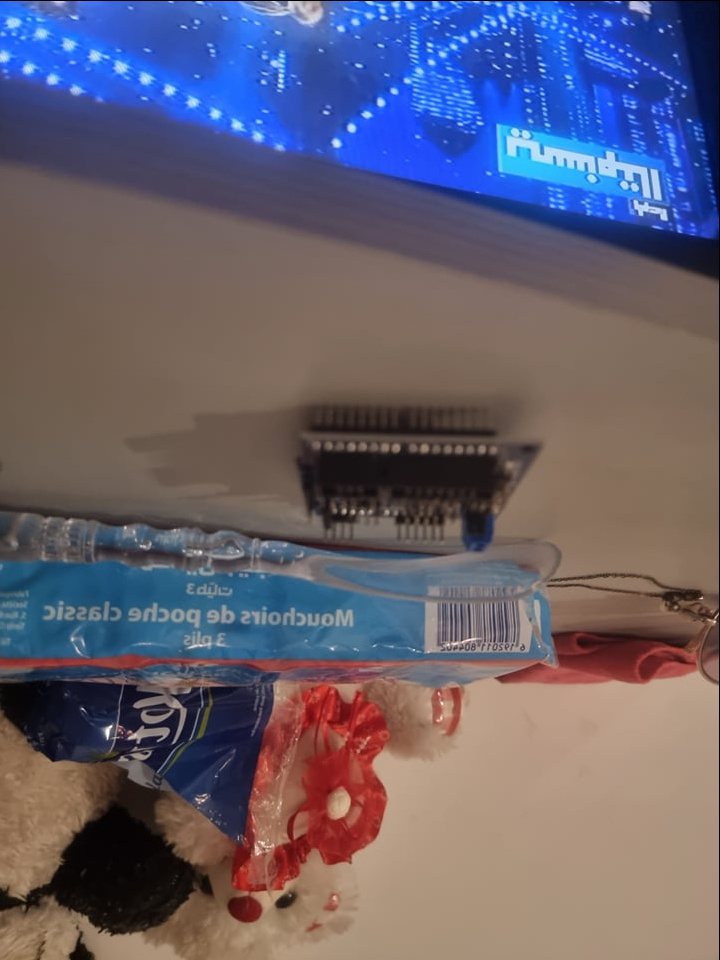5V EXPANSION: (301, 407, 546, 553)
